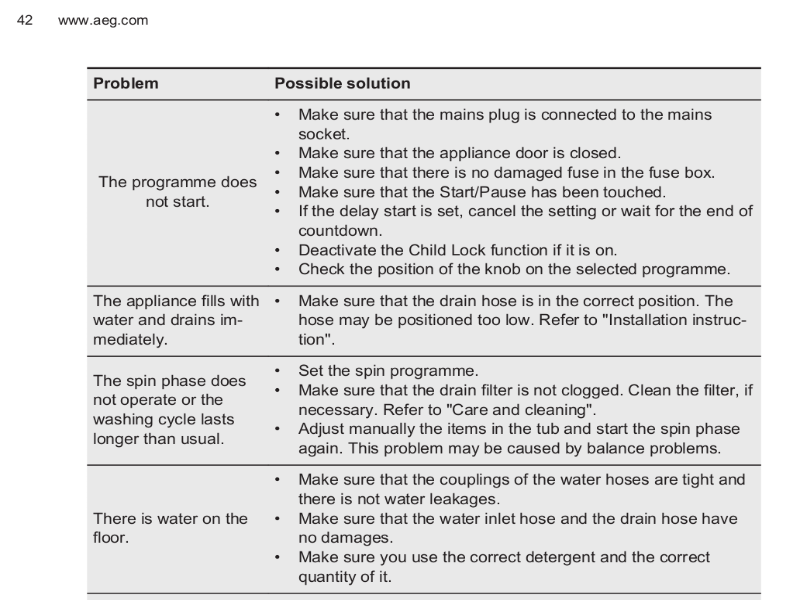borderless: (79, 58, 767, 599)
cell: (272, 105, 762, 280), (269, 464, 759, 587), (269, 363, 759, 457), (272, 289, 762, 350), (90, 366, 251, 455), (90, 289, 262, 349), (93, 169, 264, 217), (90, 507, 251, 550), (271, 72, 414, 94), (89, 73, 161, 91)
